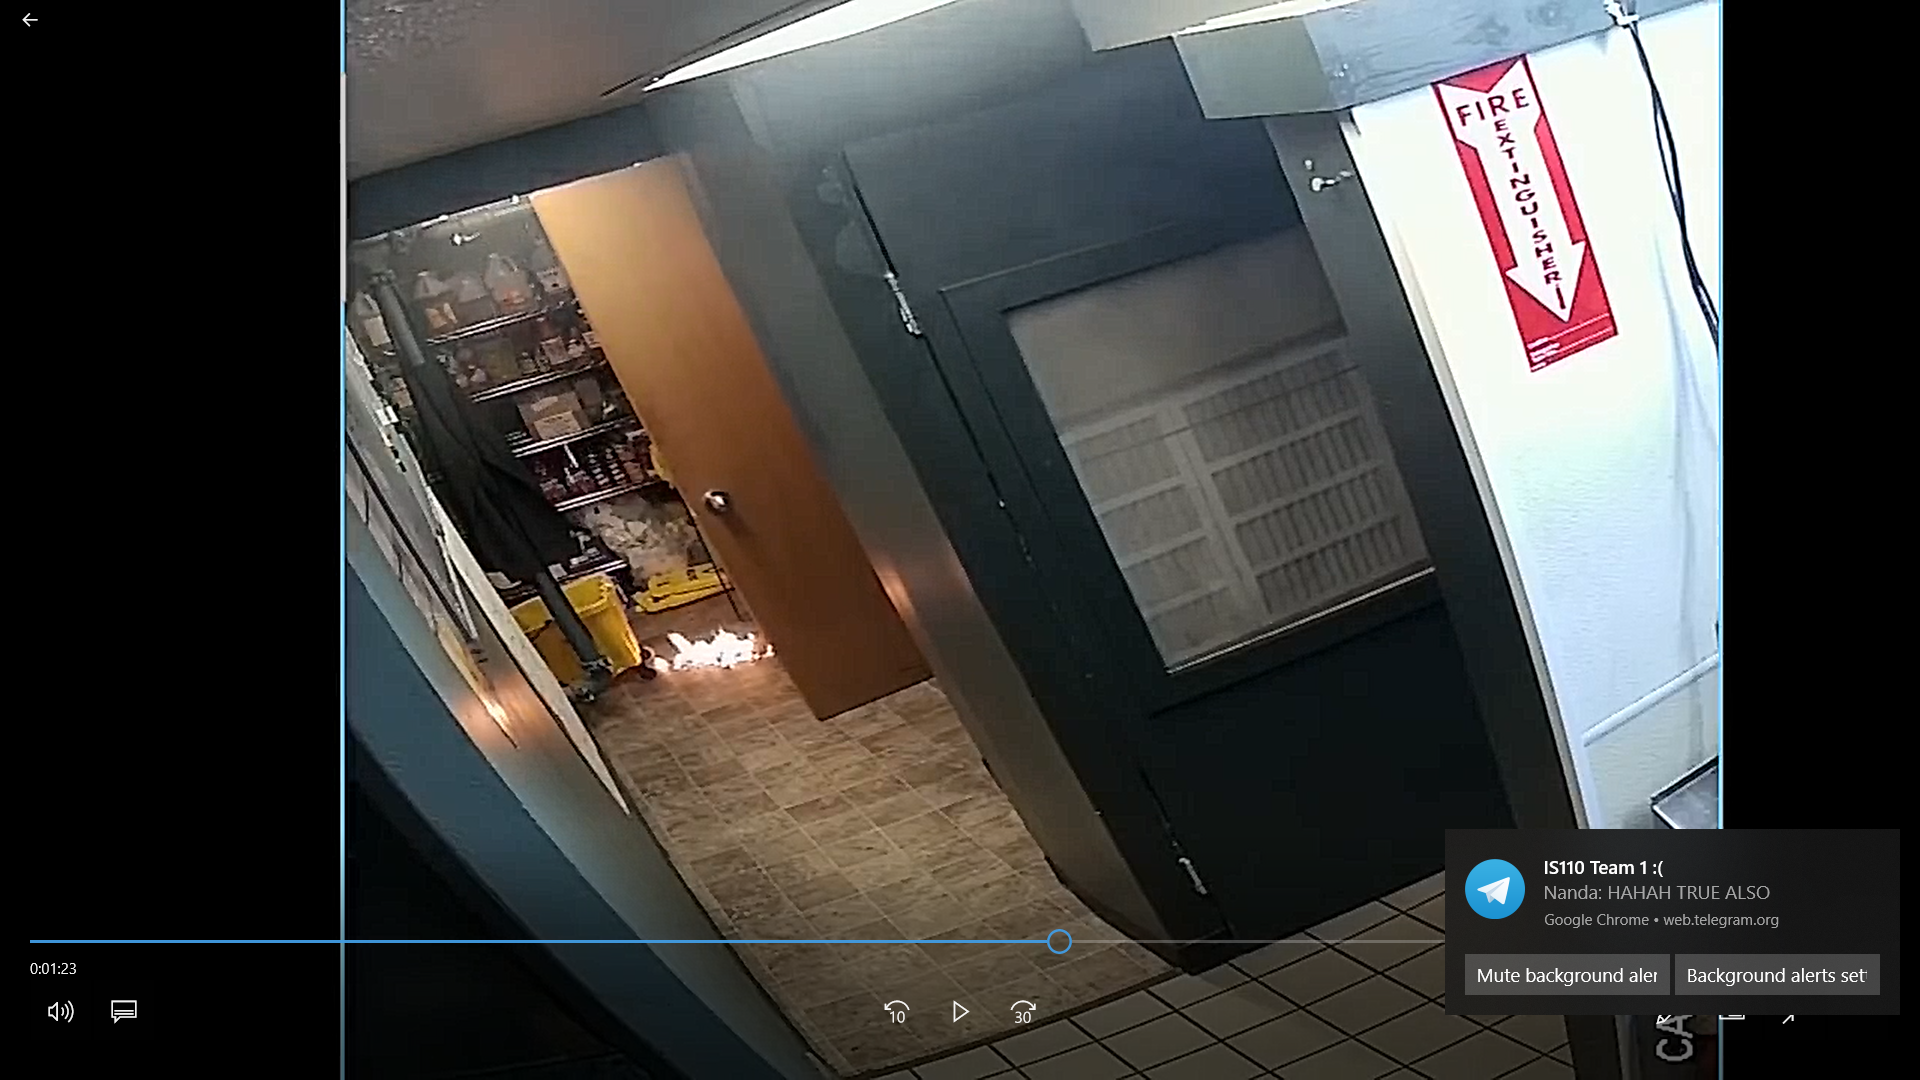fire: (641, 621, 789, 674)
